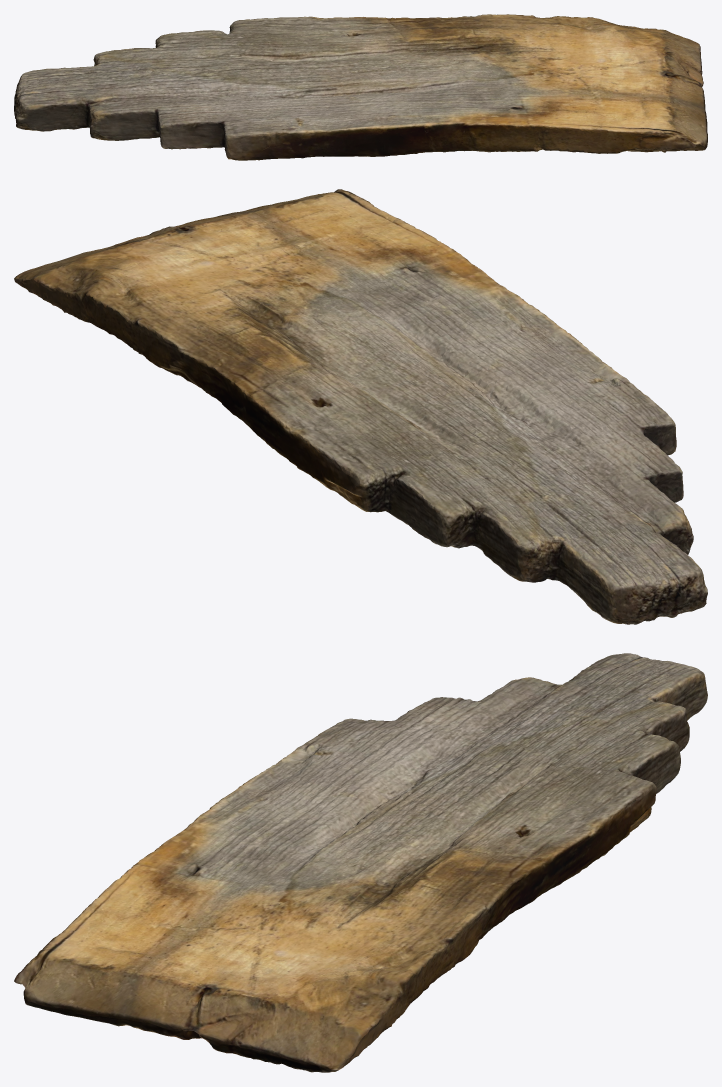
File: ЛМХ.2026.002.glb
The picture shows the model from 3 angles, top to bottom: view 1: azimuth 30°, elevation 25°; view 2: azimuth 150°, elevation 25°; view 3: azimuth 270°, elevation 25°; orthographic projection. The views are drawn at different scales.
Visible parts, largest first — view 1: world; view 2: world; view 3: world.
Boxes of the visible parts, x1,y1,x2,y2 form: world: (14, 14, 707, 160); world: (14, 189, 707, 624); world: (14, 653, 707, 1072).
Bounding box in the file's own units: 0.797 × 0.069 × 0.5712.
1 material, 1 textured.
